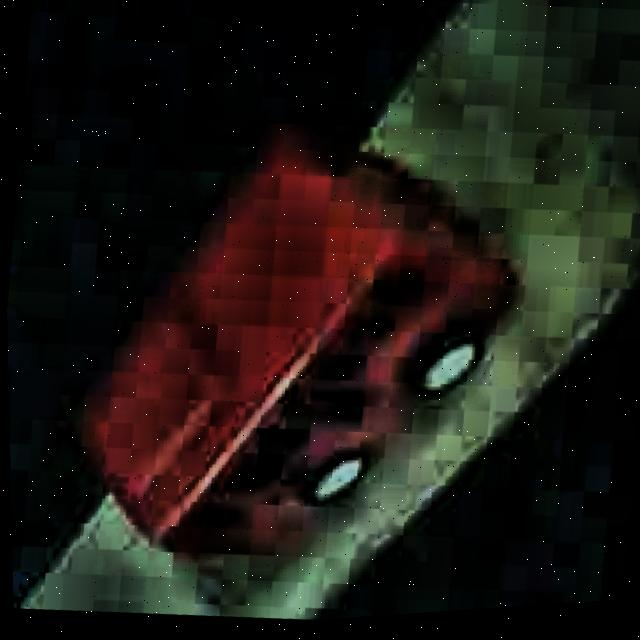bus: (58, 84, 545, 605)
